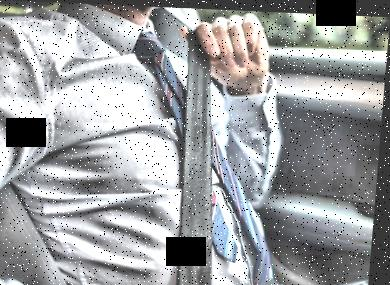seatbelt: (137, 13, 240, 285)
